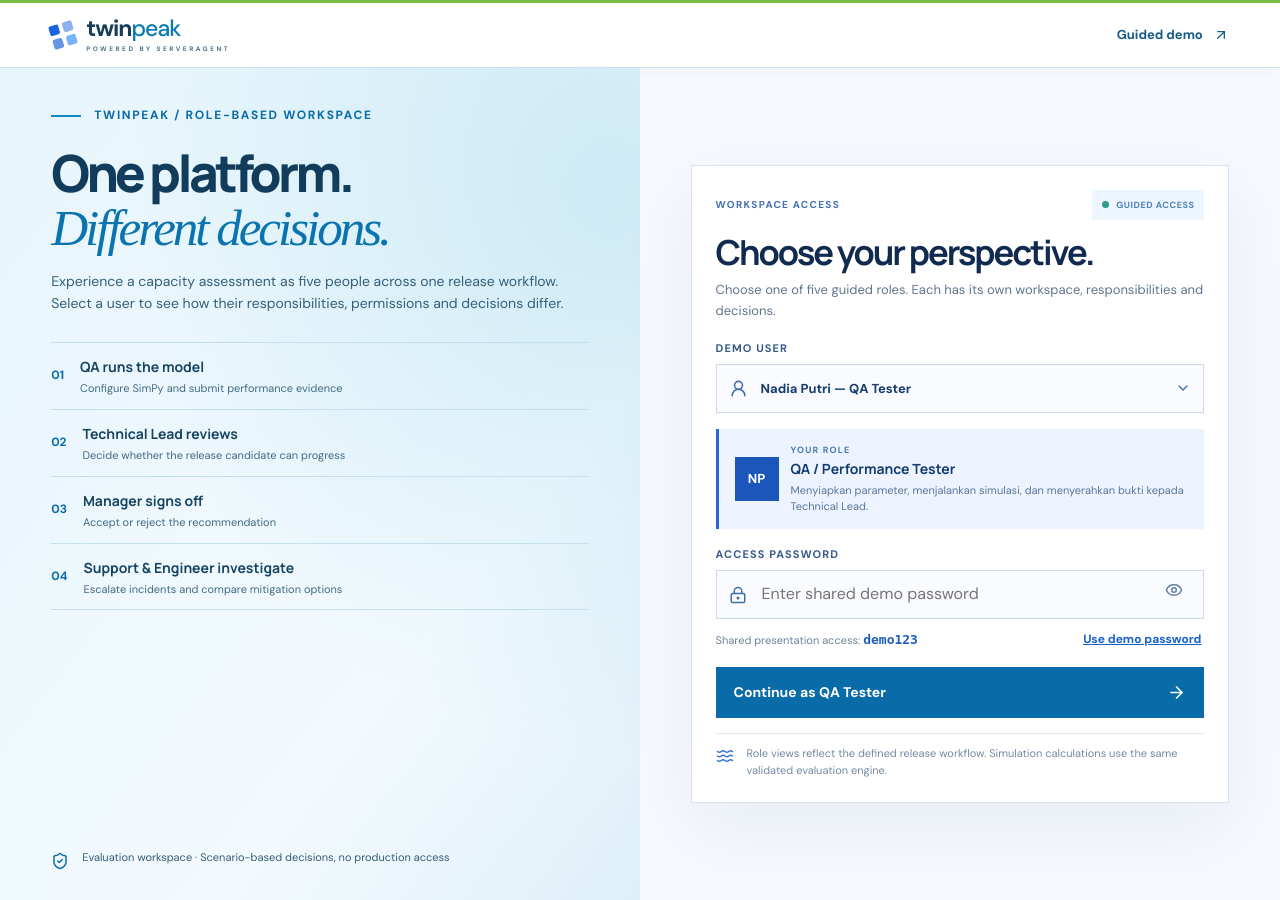
Test: five-persona guided login › rejects an incorrect password without creating a session
This screenshot has width=1280, height=900.
Type "incorrect" into the password field labelled "ACCESS PASSWORD" at [952, 595], box [760,580,1144,609]
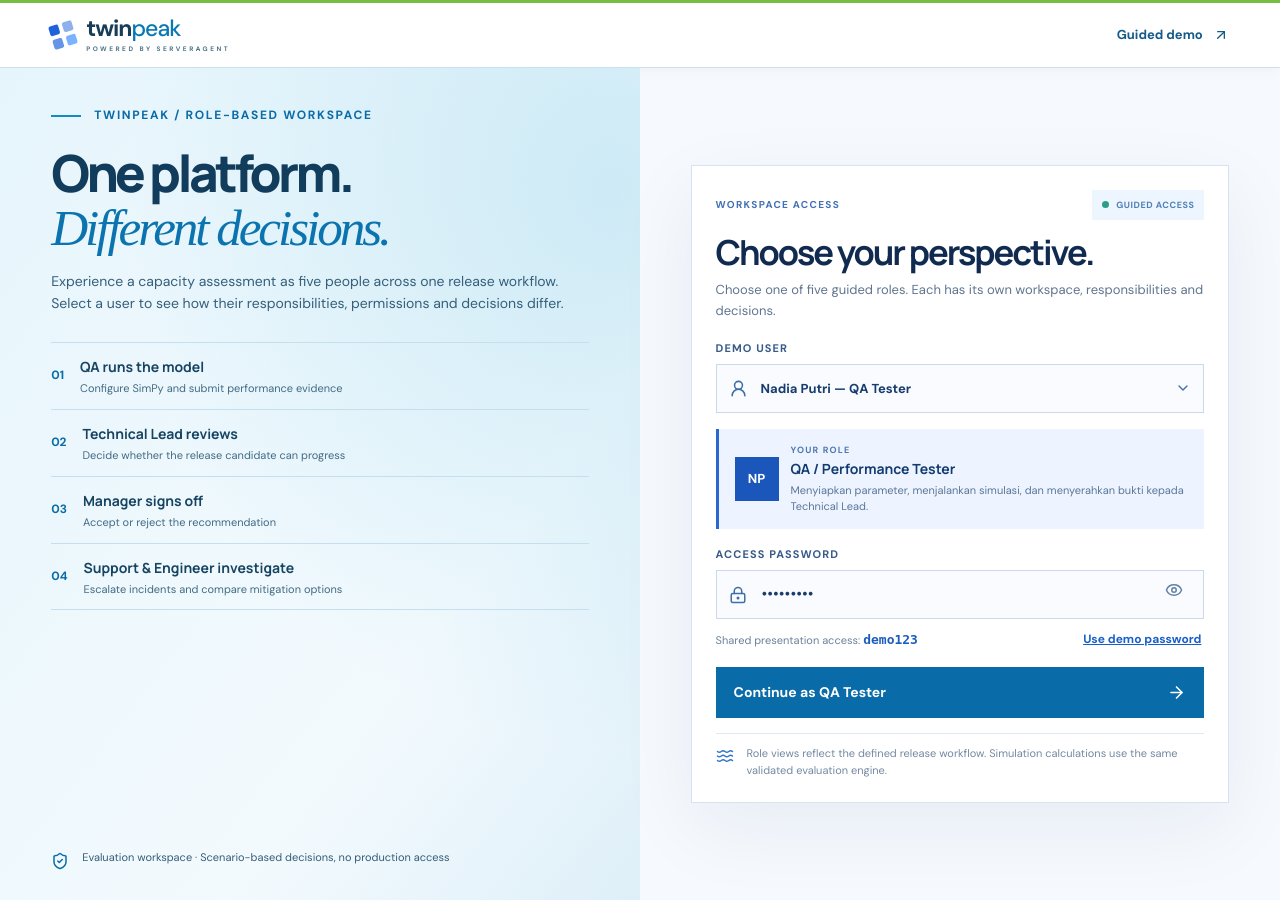
Click the button "Continue as QA Tester" at [776, 692], box [716,667,1204,718]
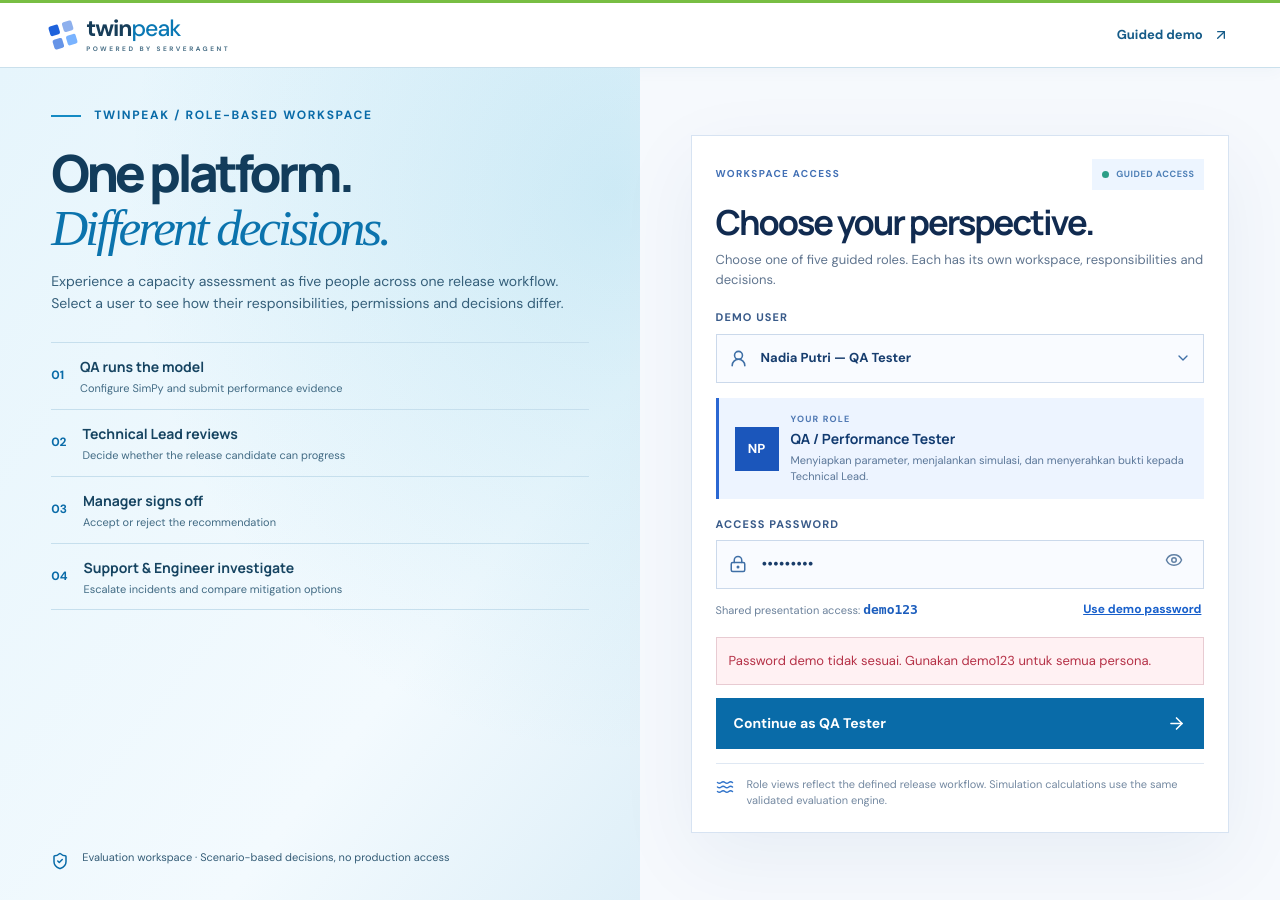
Now the message shows "Password demo tidak sesuai", box [729,652,1151,669]
Select "Raka Pratama — Technical Lead" in the dropdown labelled "DEMO USER" at [962, 358], box [761,347,1162,369]
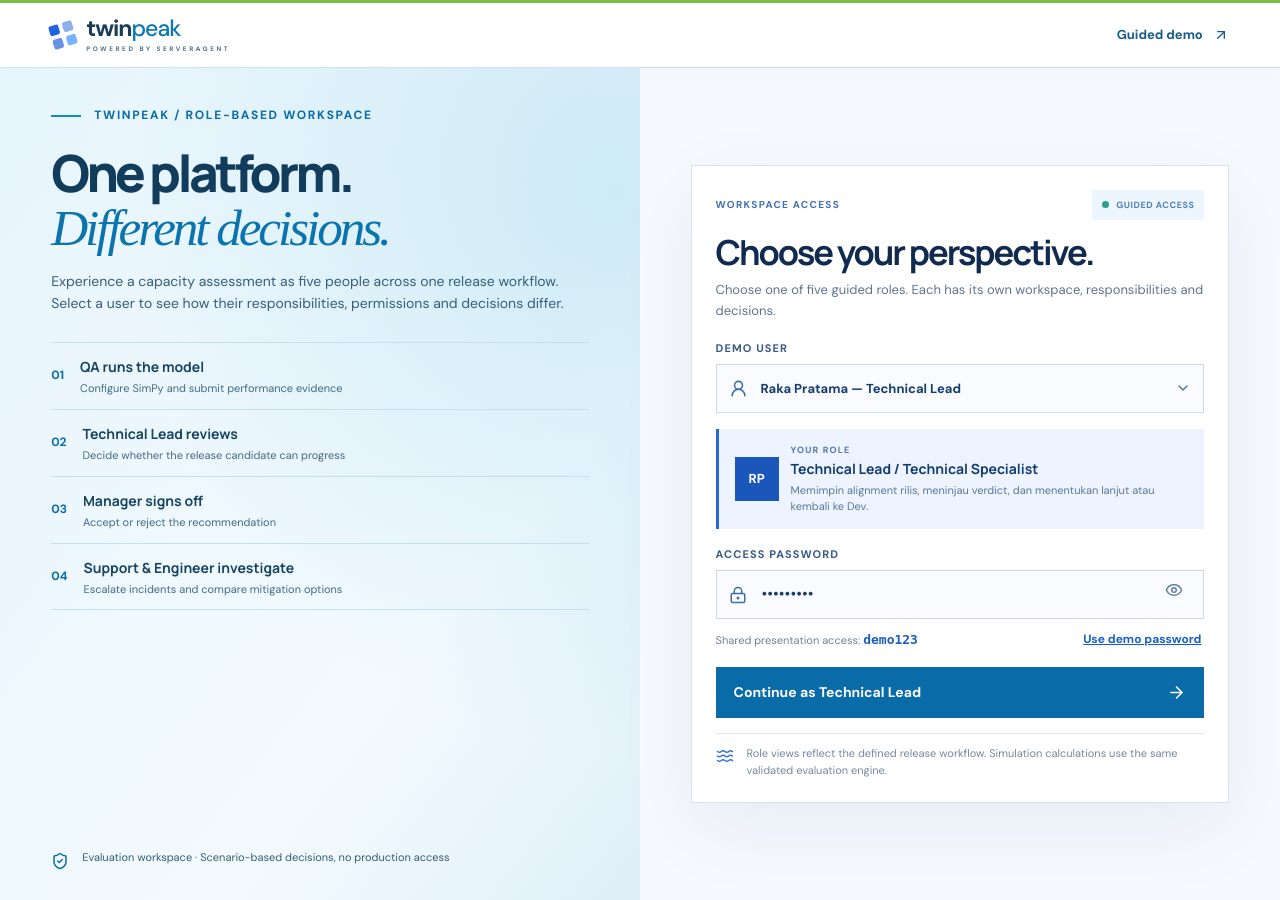
Now the message "Password demo tidak sesuai. Gunakan demo123 untuk semua persona." is gone
Now the button "Continue as Technical Lead" is shown, box [716,667,1204,718]
